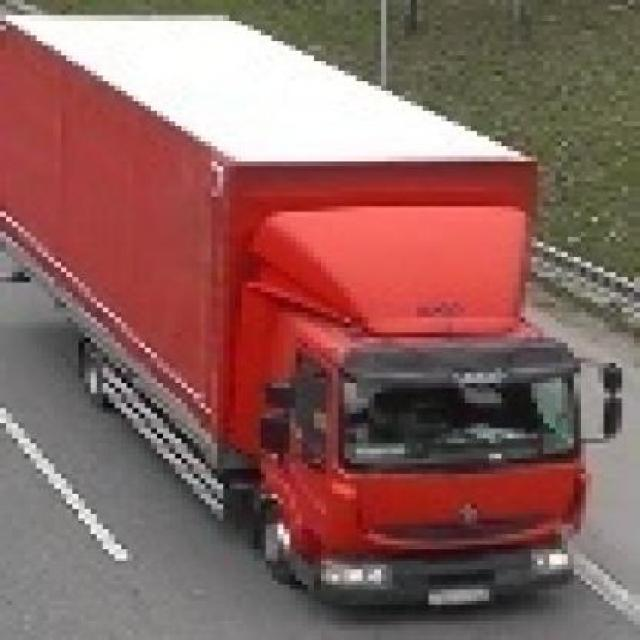truck: (1, 10, 616, 605)
